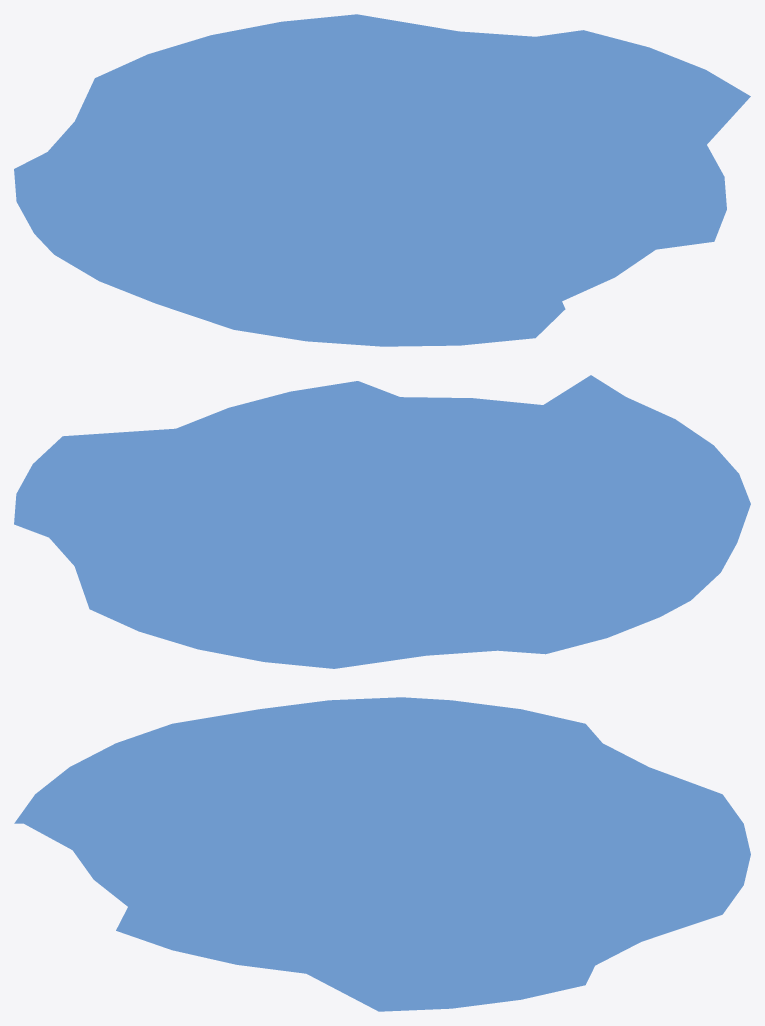
File: puddle.fbx
3 renders of one model, top to bottom at view 1: azimuth 30°, elevation 25°; view 2: azimuth 150°, elevation 25°; view 3: azimuth 270°, elevation 25°, orthographic. The views are drawn at different scales.
Parts seen in each view (by area): view 1: Circle; view 2: Circle; view 3: Circle.
Part boxes in pixels (x1,y1,x2,y2): Circle: (14,14,750,346); Circle: (14,375,750,668); Circle: (14,697,750,1011).
Bounding box in the file's own units: 565 × 14.22 × 560.
